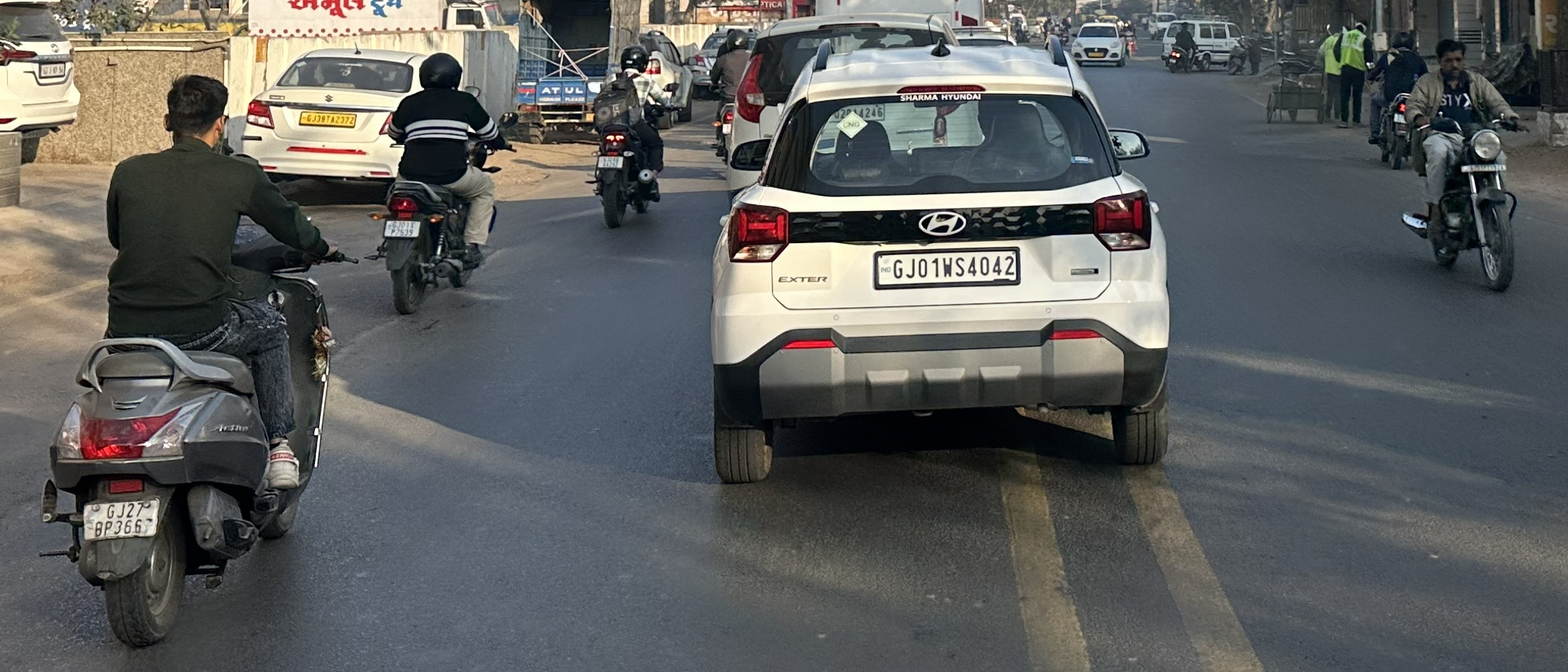BikeWithRider: (25, 39, 355, 667), (1368, 14, 1550, 297), (363, 42, 509, 319), (580, 36, 687, 245), (706, 22, 768, 175)
Helmet: (410, 48, 467, 97), (616, 39, 648, 76), (723, 22, 754, 53)
NoHelmet: (157, 66, 236, 157), (1434, 30, 1471, 86)
